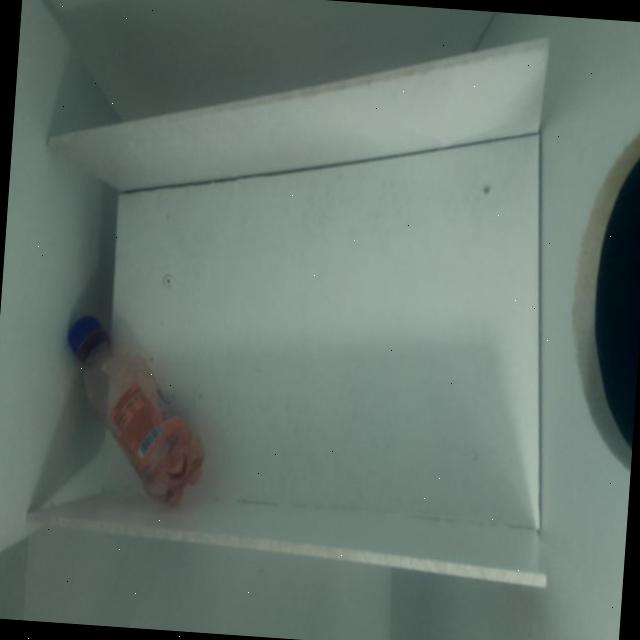bottle: (48, 285, 227, 531)
cap: (70, 321, 110, 352)
label: (104, 376, 185, 464)
